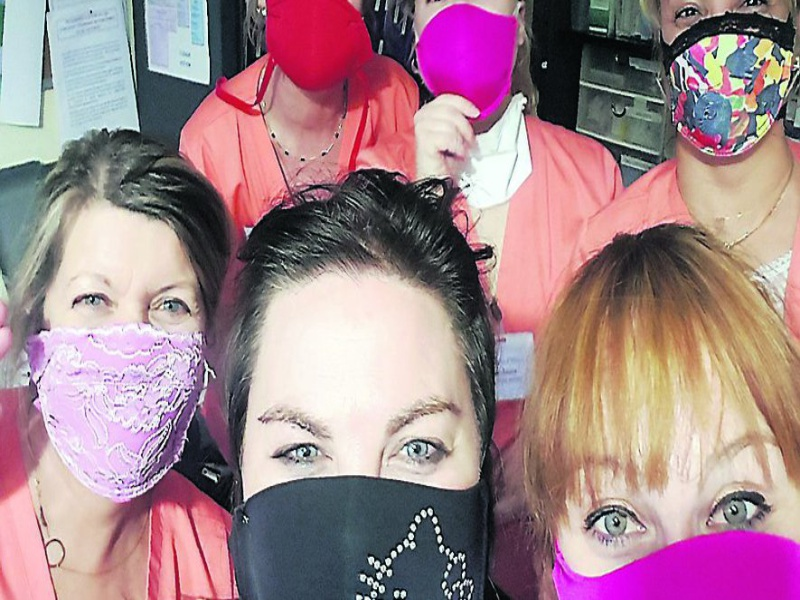ManaoArotava: (240, 269, 507, 595), (17, 176, 216, 525)
